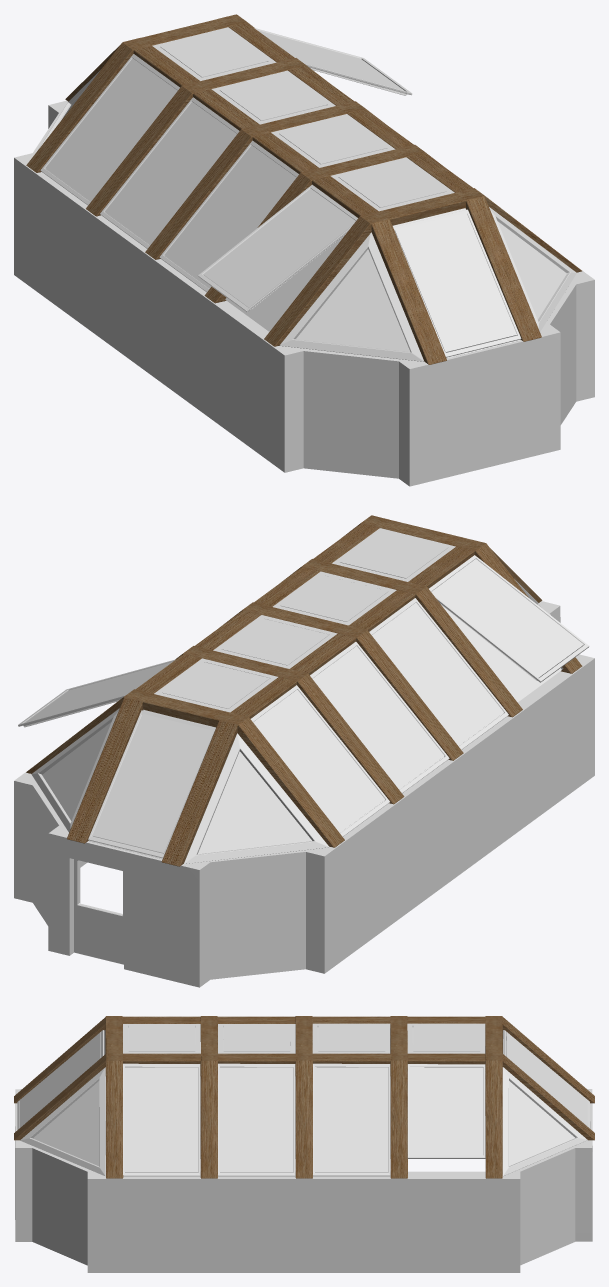
Rendered from room.fbx.
3 renders of one model, top to bottom at view 1: azimuth 30°, elevation 25°; view 2: azimuth 150°, elevation 25°; view 3: azimuth 270°, elevation 25°, orthographic. The views are drawn at different scales.
Visible parts, largest first — view 1: walls, glas.001, roof_structure2, roof_structure1, glas, glas.002, glas.004, Cube.040, windowframe2, Cube.041, window.004, Cube.037 (+5 smaller); view 2: walls, glas.001, roof_structure2, roof_structure1, glas, glas.002, glas.004, Cube.038, windowframe2, Cube.039, window.004, walls.001 (+6 smaller); view 3: walls, glas.001, roof_structure2, roof_structure1, glas, glas.003, glas.002, window.004, windowframe2, Cube.037, Cube.023, Cube.010 (+3 smaller).
Boxes of the visible parts, x1,y1,x2,y2 form: walls: (14, 100, 594, 486); glas.001: (45, 58, 344, 331); roof_structure2: (26, 14, 581, 346); roof_structure1: (65, 14, 541, 364); glas: (160, 30, 446, 207); glas.002: (395, 213, 516, 352); glas.004: (203, 188, 355, 307); Cube.040: (296, 249, 410, 351); windowframe2: (152, 27, 454, 211); Cube.041: (279, 232, 424, 361); window.004: (40, 54, 298, 292); Cube.037: (497, 221, 566, 319); walls: (14, 601, 594, 987); glas.001: (253, 602, 563, 832); roof_structure2: (26, 515, 582, 847); roof_structure1: (67, 523, 542, 866); glas: (162, 531, 447, 708); glas.002: (92, 714, 214, 853); glas.004: (431, 559, 583, 677); Cube.038: (198, 751, 311, 854); windowframe2: (154, 528, 455, 712); Cube.039: (184, 733, 329, 863); window.004: (250, 598, 508, 836); walls.001: (74, 859, 123, 964); walls: (15, 1076, 592, 1272); glas.001: (125, 1067, 388, 1172); roof_structure2: (105, 1016, 502, 1178); roof_structure1: (14, 1016, 594, 1140); glas: (128, 1025, 480, 1051); glas.003: (410, 1067, 483, 1155); glas.002: (20, 1032, 587, 1127); window.004: (123, 1063, 390, 1176); windowframe2: (123, 1023, 485, 1053); Cube.037: (33, 1081, 99, 1165); Cube.023: (509, 1081, 574, 1165); Cube.010: (502, 1067, 587, 1176).
Bounding box in the file's own units: 738 × 444 × 1347.
